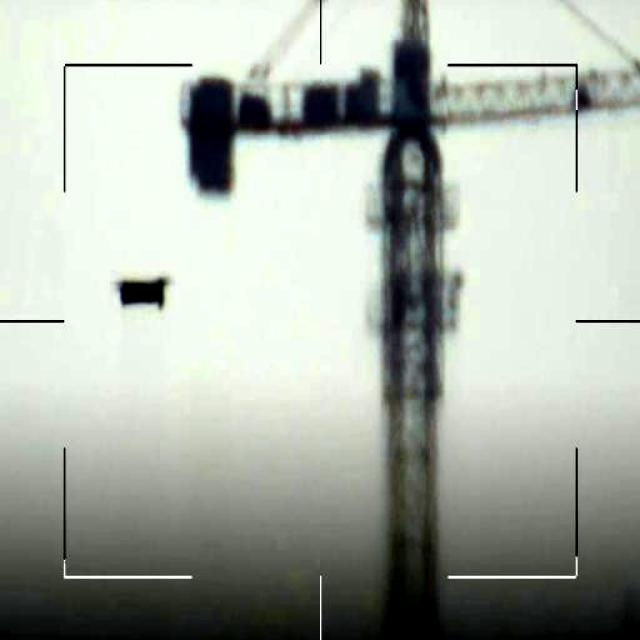bird: (116, 271, 168, 311)
